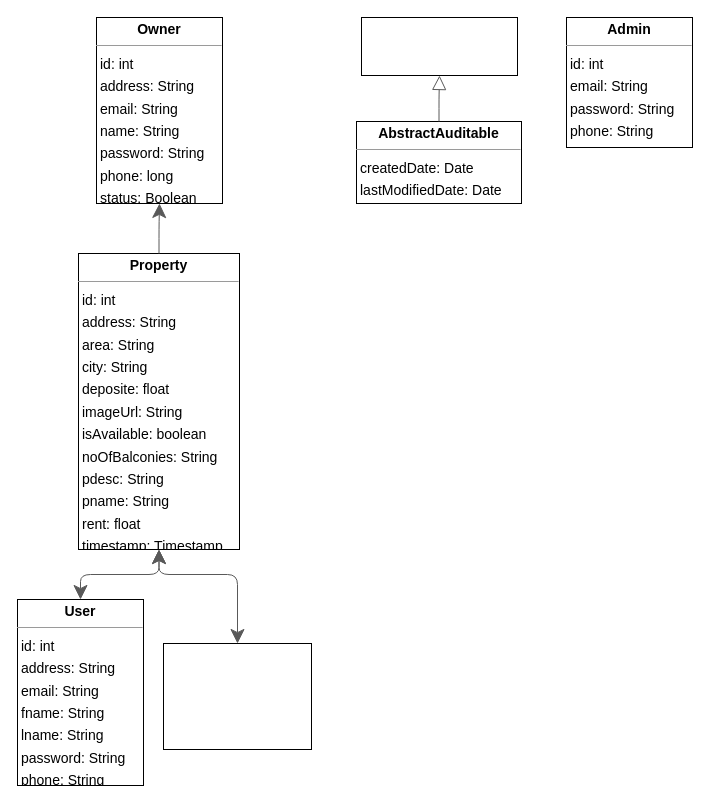
This 710x805 diagram has some shape labels left out. Each missing label, with the centre of its shape:
"AbstractPersistable id: PK" belongs at (x=439, y=46).
"Category id: int categoryType: String name: String" belongs at (x=237, y=696).
